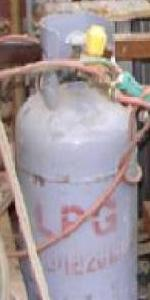cylinder: (1, 1, 150, 300)
